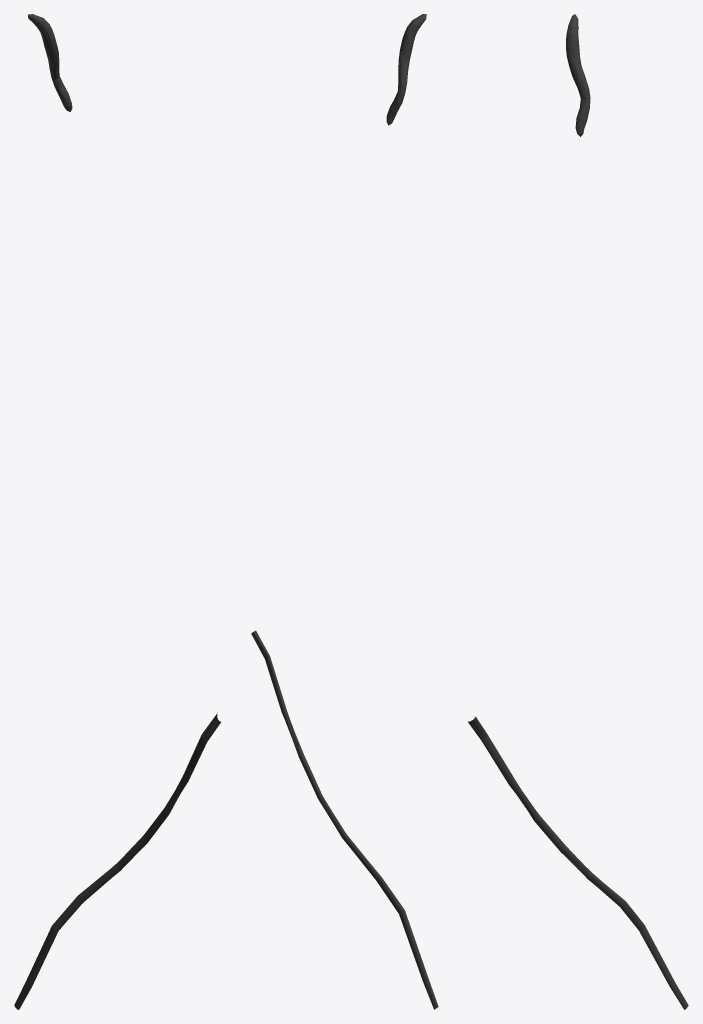
The model's file is Articularis.glb.
The picture shows the model from 3 angles, left to right: view 1: azimuth 30°, elevation 25°; view 2: azimuth 210°, elevation 25°; view 3: azimuth 270°, elevation 25°; orthographic projection. The views are drawn at different scales.
Visible parts, largest first — view 1: Articularis; view 2: Articularis; view 3: Articularis.
Part boxes in pixels (left/top/right/bottom): Articularis: left=14, top=14, right=220, bottom=1009; Articularis: left=251, top=14, right=438, bottom=1009; Articularis: left=468, top=14, right=688, bottom=1009.
Bounding box in the file's own units: 1.8 × 12.98 × 2.68.
Materials: 1 (1 with a texture image).
